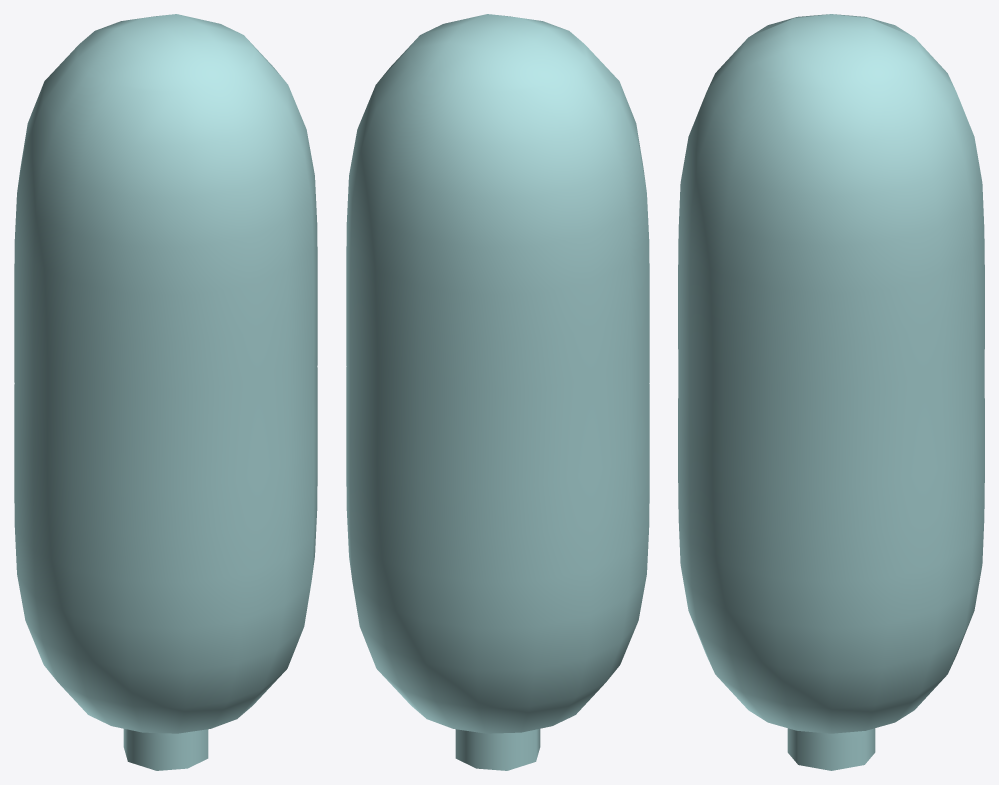
Rendered from gloss_test.fbx.
The picture shows the model from 3 angles, left to right: view 1: azimuth 30°, elevation 25°; view 2: azimuth 150°, elevation 25°; view 3: azimuth 270°, elevation 25°; orthographic projection.
Parts seen in each view (by area): view 1: capsule_out7; view 2: capsule_out7; view 3: capsule_out7.
Part boxes in pixels (left/top/right/bottom): capsule_out7: left=14, top=14, right=317, bottom=770; capsule_out7: left=346, top=14, right=649, bottom=770; capsule_out7: left=678, top=14, right=984, bottom=770.
Bounding box in the file's own units: 44.06 × 115 × 44.06.
